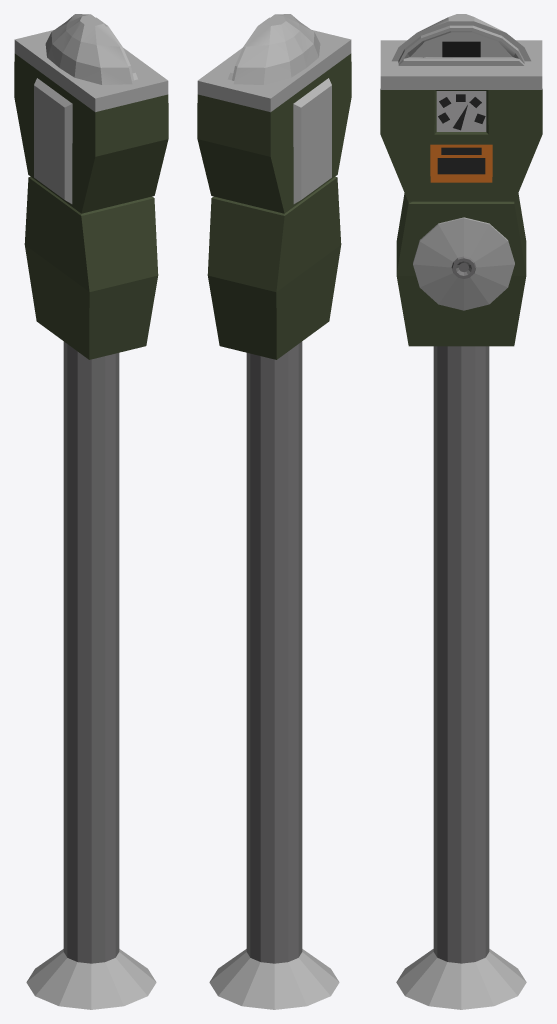
Rendered from SM_parking_meter.gltf.
3 renders of one model, left to right at view 1: azimuth 30°, elevation 25°; view 2: azimuth 150°, elevation 25°; view 3: azimuth 270°, elevation 25°, orthographic.
Visible parts, largest first — view 1: SM_parking_meter; view 2: SM_parking_meter; view 3: SM_parking_meter.
Part boxes in pixels (bbox=[...]): SM_parking_meter: bbox=[14, 14, 168, 1009]; SM_parking_meter: bbox=[197, 14, 351, 1009]; SM_parking_meter: bbox=[380, 14, 542, 1009].
Size of the model in its own units: 0.2085 by 1.7 by 0.2588.
Materials: 1 (1 with a texture image).
